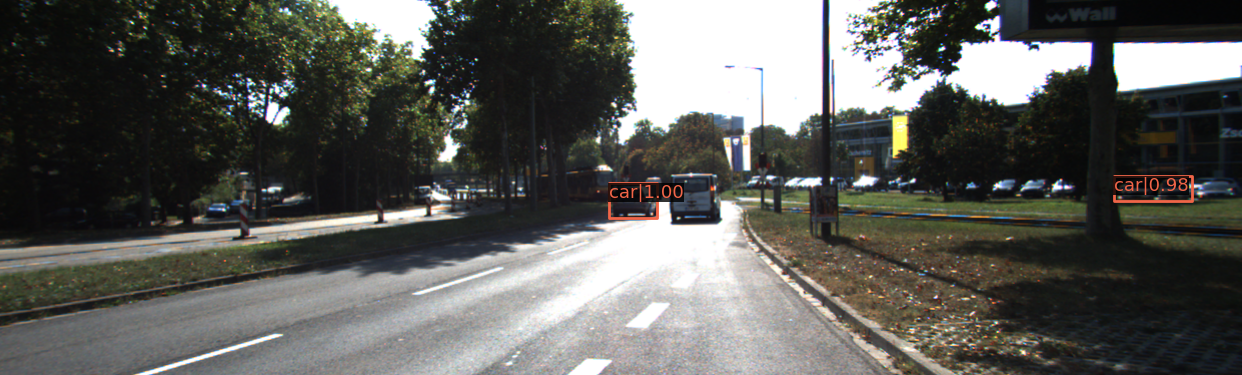car: (610, 187, 659, 219)
